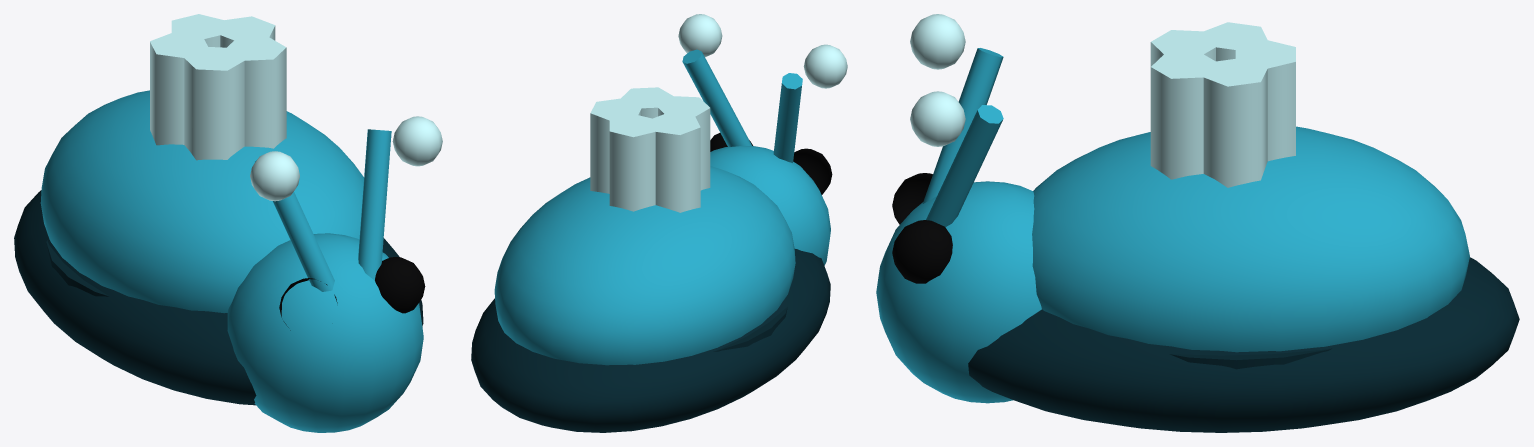
The model's file is glaciar.obj.
3 renders of one model, left to right at view 1: azimuth 30°, elevation 25°; view 2: azimuth 150°, elevation 25°; view 3: azimuth 270°, elevation 25°, orthographic. The views are drawn at different scales.
Size of the model in its own units: 0.448 by 0.4244 by 0.7246.
